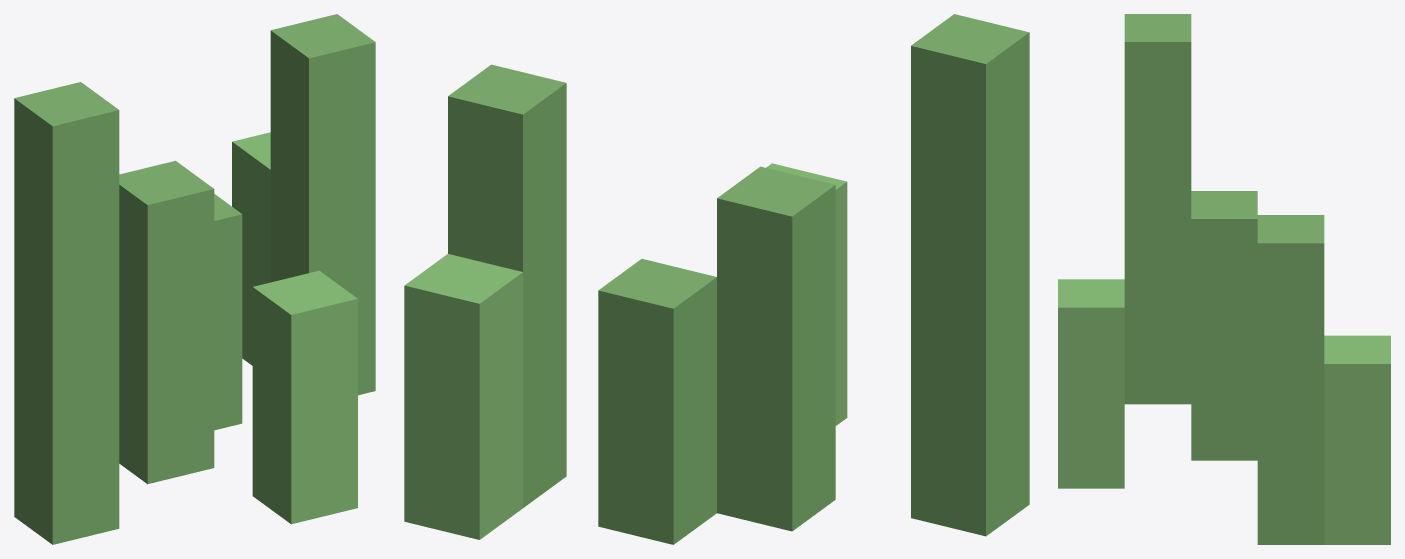
File: trebol_09.glb
3 renders of one model, left to right at view 1: azimuth 30°, elevation 25°; view 2: azimuth 150°, elevation 25°; view 3: azimuth 270°, elevation 25°, orthographic. The views are drawn at different scales.
Visible parts, largest first — view 1: trebol_09; view 2: trebol_09; view 3: trebol_09.
Boxes of the visible parts, x1,y1,x2,y2 form: trebol_09: [14, 14, 375, 544]; trebol_09: [404, 14, 1029, 544]; trebol_09: [1058, 14, 1390, 544].
Bounding box in the file's own units: 0.6 × 0.6 × 0.5.
